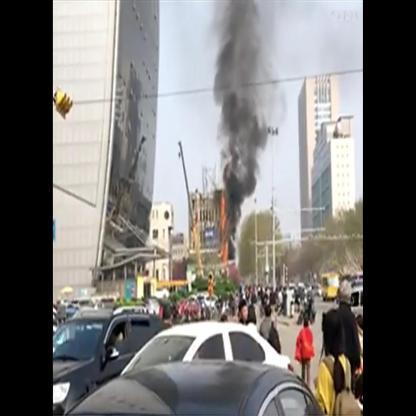smoke: (217, 1, 268, 194)
